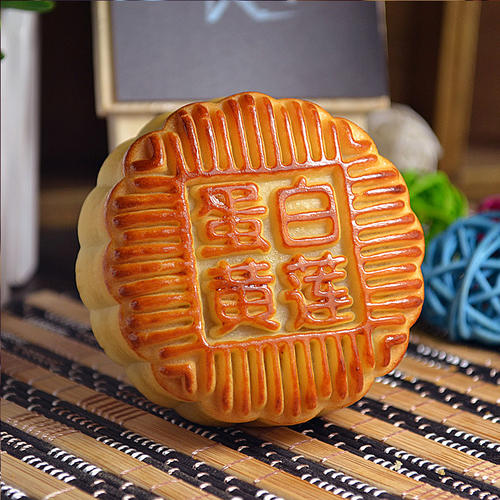MoonCake: (75, 91, 425, 431)
